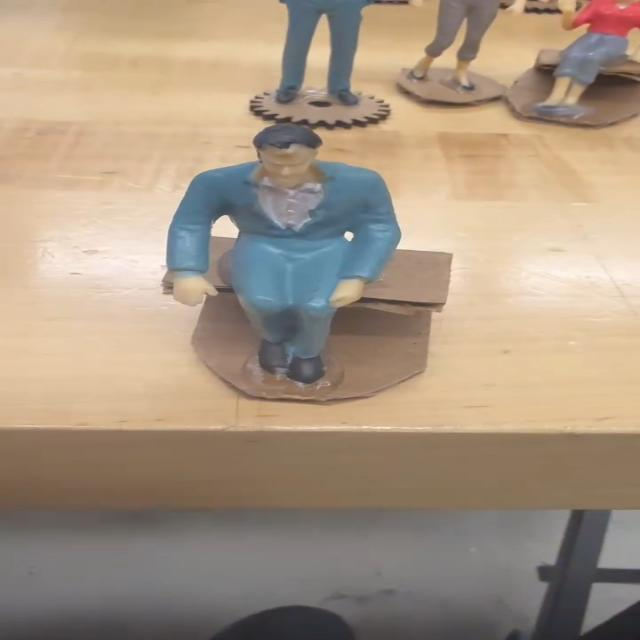Authorized: (78, 120, 598, 448)
